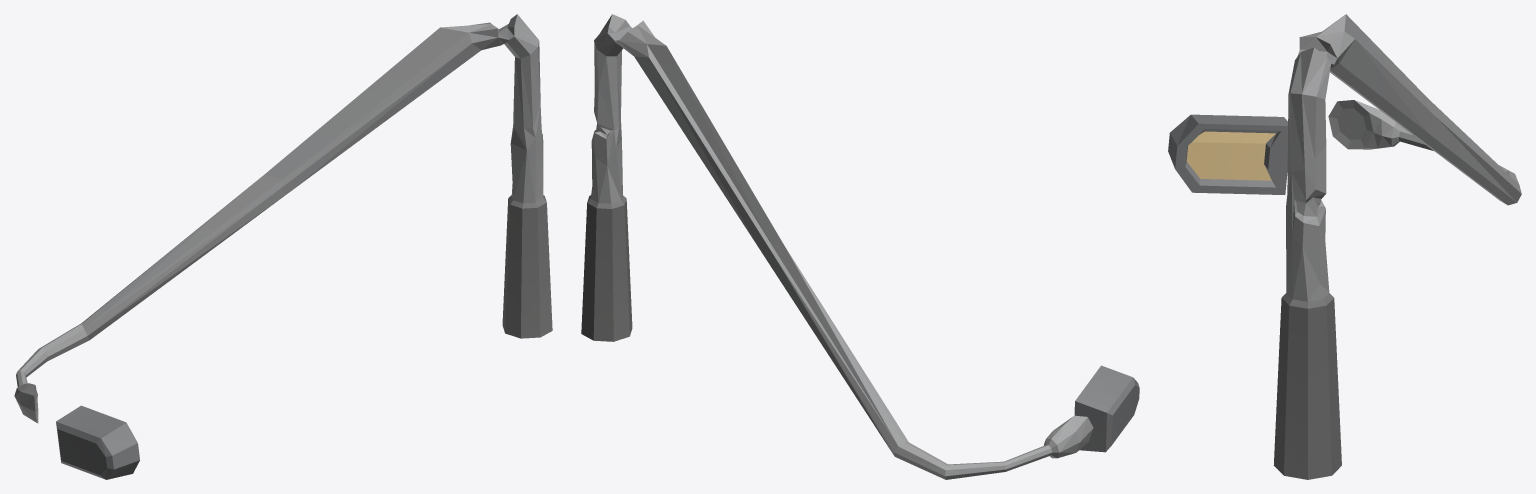
The model's file is lamp_2.obj.
The picture shows the model from 3 angles, left to right: view 1: azimuth 30°, elevation 25°; view 2: azimuth 150°, elevation 25°; view 3: azimuth 270°, elevation 25°; orthographic projection. The views are drawn at different scales.
Parts seen in each view (by area): view 1: lamp_2_Mesh; view 2: lamp_2_Mesh; view 3: lamp_2_Mesh.
Part boxes in pixels (x1,y1,x2,y2): lamp_2_Mesh: [14, 14, 552, 479]; lamp_2_Mesh: [581, 14, 1139, 479]; lamp_2_Mesh: [1168, 14, 1521, 479].
Bounding box in the file's own units: 4.02 × 2.48 × 1.85.
